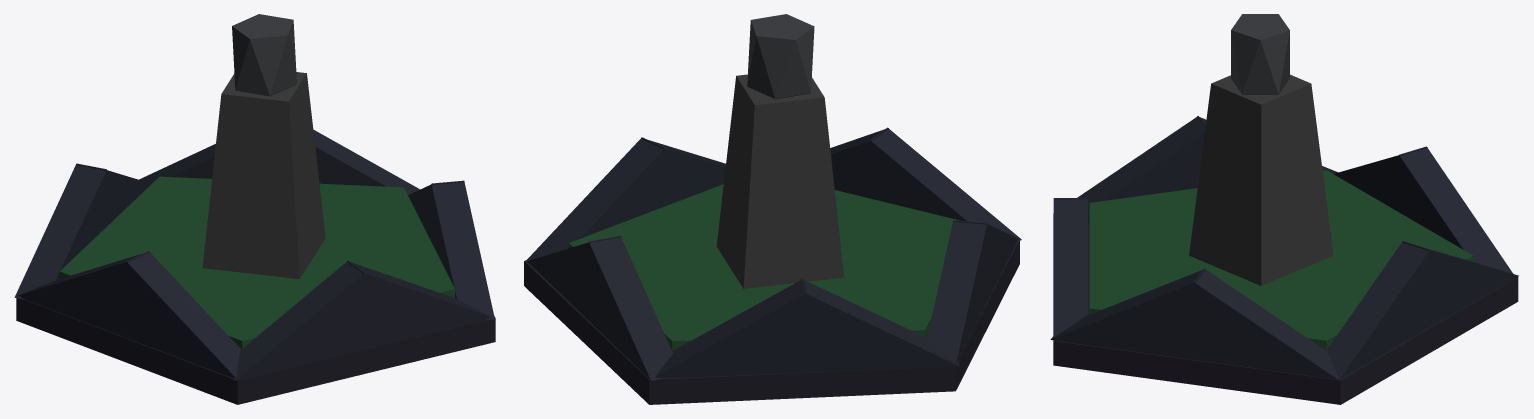
File: rizal2.fbx
3 renders of one model, left to right at view 1: azimuth 30°, elevation 25°; view 2: azimuth 150°, elevation 25°; view 3: azimuth 270°, elevation 25°, orthographic. The views are drawn at different scales.
Parts seen in each view (by area): view 1: Cube.005, Cylinder.001, Cone, Cylinder, Icosphere; view 2: Cube.005, Cylinder.001, Cone, Cylinder, Icosphere; view 3: Cube.005, Cylinder.001, Cone, Cylinder, Icosphere.
Part boxes in pixels (x1,y1,x2,y2): Cube.005: (14, 129, 494, 380); Cylinder.001: (59, 176, 454, 349); Cone: (202, 72, 325, 278); Cylinder: (16, 298, 495, 404); Icosphere: (232, 14, 296, 96); Cube.005: (526, 127, 1021, 380); Cylinder.001: (569, 184, 959, 350); Cone: (716, 74, 844, 288); Cylinder: (524, 241, 1019, 404); Icosphere: (747, 14, 814, 99); Cube.005: (1050, 116, 1518, 379); Cylinder.001: (1089, 170, 1473, 350); Cone: (1189, 74, 1333, 285); Cylinder: (1053, 213, 1518, 404); Icosphere: (1231, 14, 1289, 94).
Size of the model in its own units: 766 by 474 by 730.
